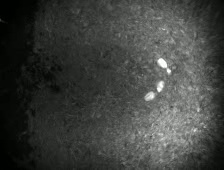corn: (141, 89, 158, 102), (155, 55, 169, 70), (155, 78, 167, 94), (164, 65, 173, 75)
